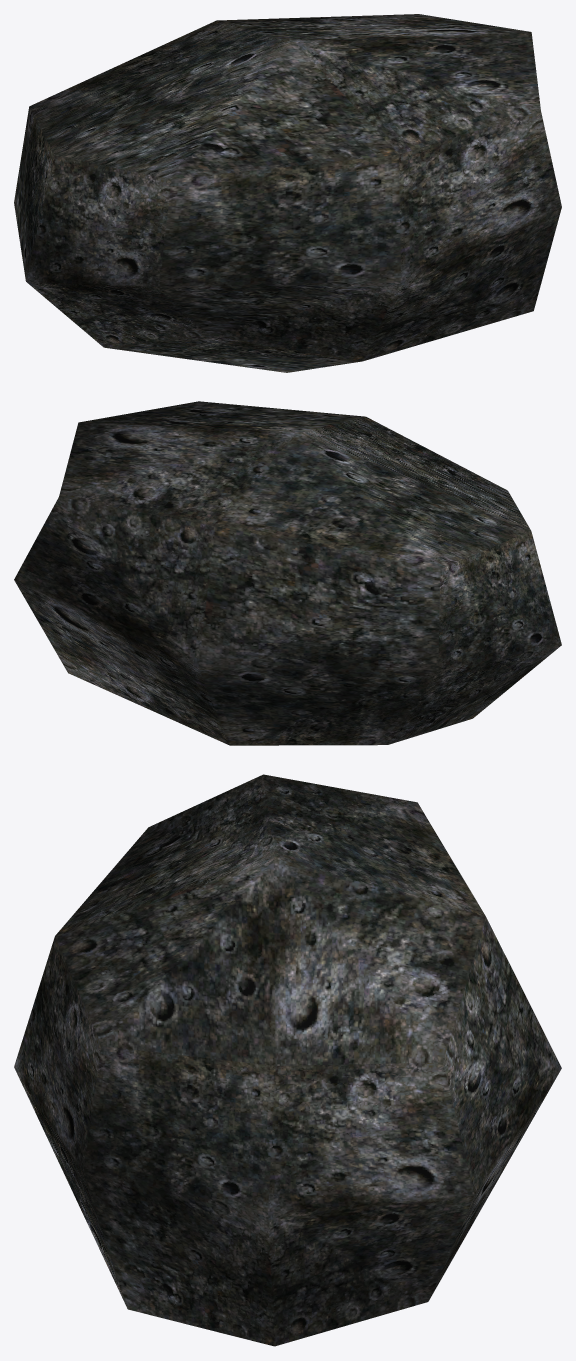
The model's file is asteroid_iron_radial_s02_l1.fbx.
The picture shows the model from 3 angles, top to bottom: view 1: azimuth 30°, elevation 25°; view 2: azimuth 150°, elevation 25°; view 3: azimuth 270°, elevation 25°; orthographic projection. The views are drawn at different scales.
Visible parts, largest first — view 1: mesh_node; view 2: mesh_node; view 3: mesh_node.
Boxes of the visible parts, x1,y1,x2,y2 form: mesh_node: [14, 14, 561, 372]; mesh_node: [14, 401, 561, 745]; mesh_node: [14, 774, 561, 1346].
Bounding box in the file's own units: 2.32 × 1.43 × 1.71.
